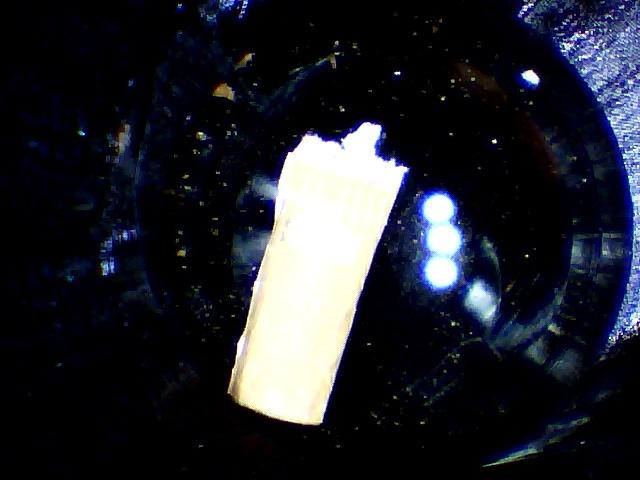megot: (208, 117, 421, 428)
